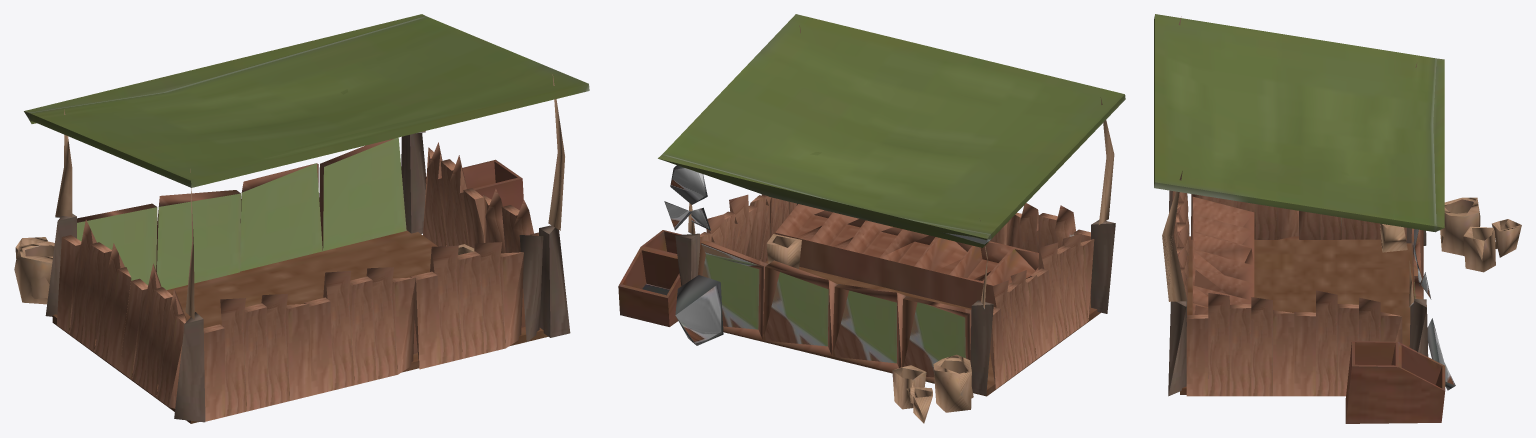
The model's file is sap-trai-cay.glb.
The picture shows the model from 3 angles, left to right: view 1: azimuth 30°, elevation 25°; view 2: azimuth 150°, elevation 25°; view 3: azimuth 270°, elevation 25°; orthographic projection. The views are drawn at different scales.
Visible parts, largest first — view 1: pCube33_lambert3_0; view 2: pCube33_lambert3_0; view 3: pCube33_lambert3_0.
Part boxes in pixels (x1,y1,x2,y2): pCube33_lambert3_0: [14, 14, 589, 423]; pCube33_lambert3_0: [618, 14, 1125, 423]; pCube33_lambert3_0: [1154, 14, 1521, 423].
Size of the model in its own units: 1 by 0.5715 by 0.8256.
Materials: 1 (1 with a texture image).
